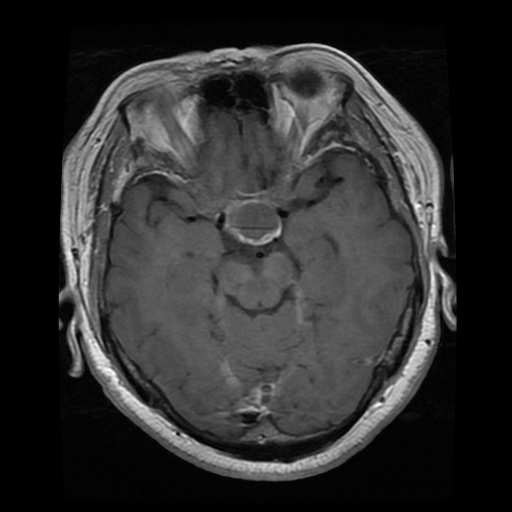pituitary: (226, 196, 283, 245)
